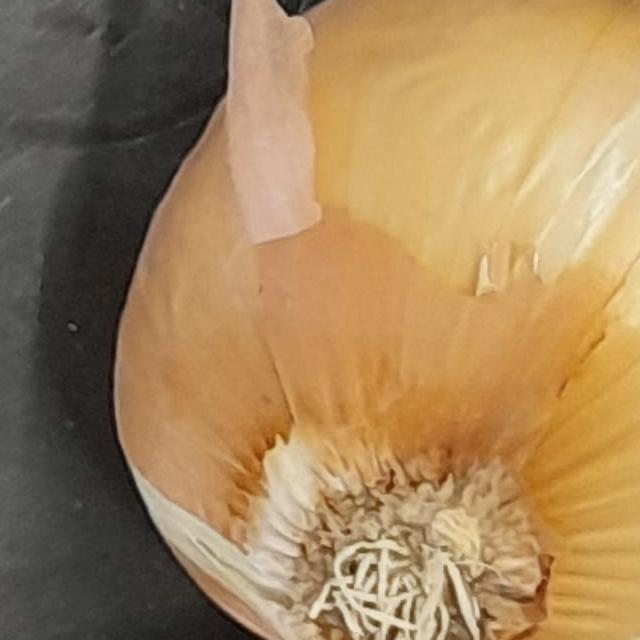onion: (63, 0, 640, 640)
